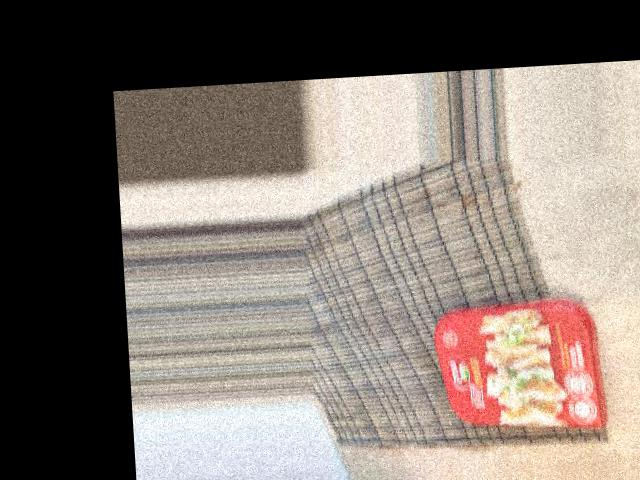cheese: (449, 154, 585, 350)
